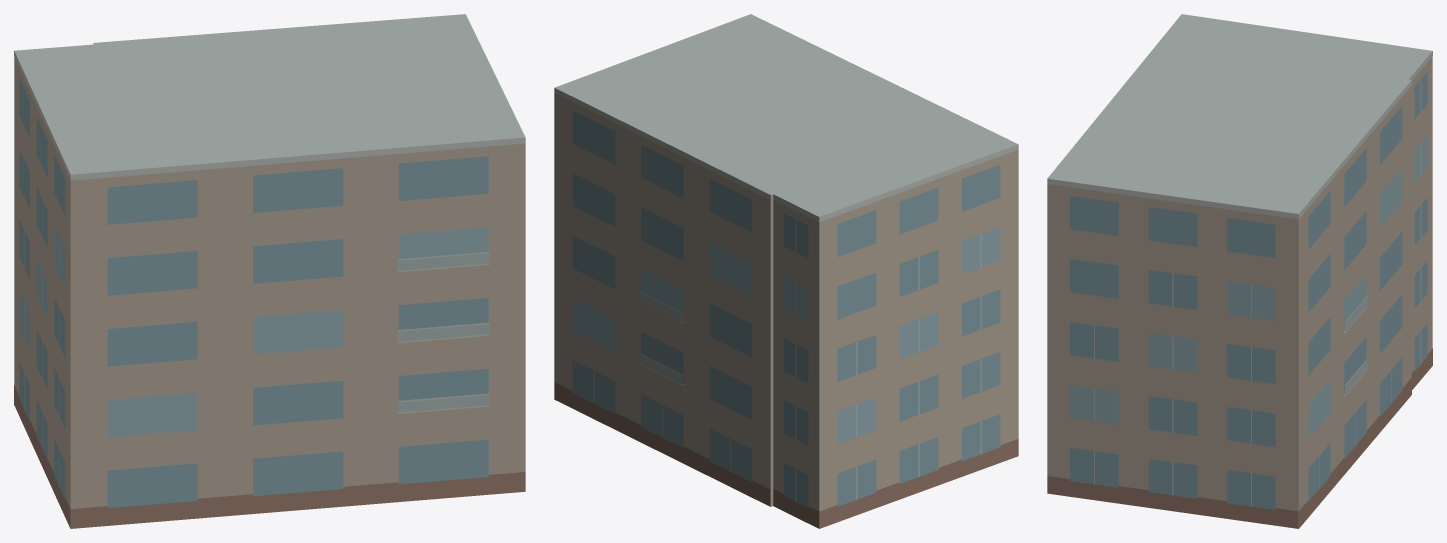
Rendered from survey-upis-32936774.glb.
3 views of the same model, side by side, from view 1: azimuth 30°, elevation 25°; view 2: azimuth 150°, elevation 25°; view 3: azimuth 270°, elevation 25° (orthographic). The views are drawn at different scales.
Parts seen in each view (by area): view 1: survey-upis-32936774.tmp; view 2: survey-upis-32936774.tmp; view 3: survey-upis-32936774.tmp.
Part boxes in pixels (x1,y1,x2,y2): survey-upis-32936774.tmp: (14,14,525,528); survey-upis-32936774.tmp: (554,14,1018,528); survey-upis-32936774.tmp: (1047,14,1432,528).
Bounding box in the file's own units: 19.63 × 14.4 × 15.99.
